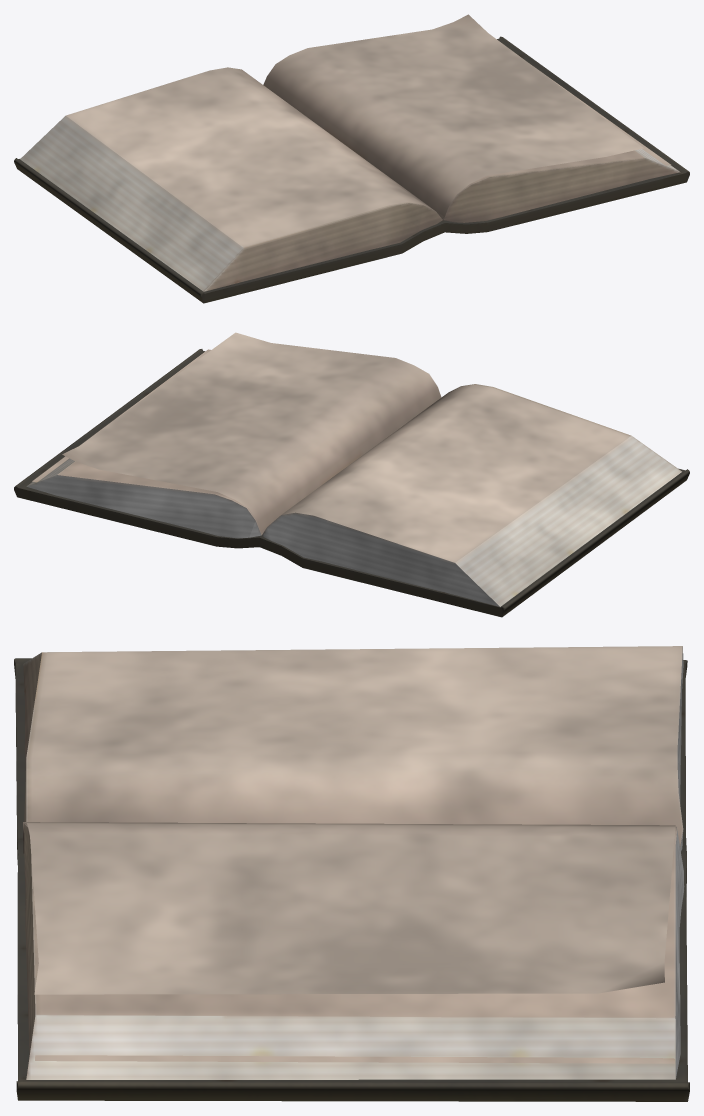
Rendered from SM_BookOpen_01.fbx.
The picture shows the model from 3 angles, top to bottom: view 1: azimuth 30°, elevation 25°; view 2: azimuth 150°, elevation 25°; view 3: azimuth 270°, elevation 25°; orthographic projection. The views are drawn at different scales.
Parts seen in each view (by area): view 1: SM_BookOpen_01_LOD0; view 2: SM_BookOpen_01_LOD0; view 3: SM_BookOpen_01_LOD0.
Boxes of the visible parts, box(x1,y1,x2,y2) form: SM_BookOpen_01_LOD0: box(14, 14, 689, 303); SM_BookOpen_01_LOD0: box(14, 332, 689, 617); SM_BookOpen_01_LOD0: box(14, 646, 689, 1101).
Size of the model in its own units: 38.41 by 25.38 by 4.2.
Materials: 1 (1 with a texture image).
